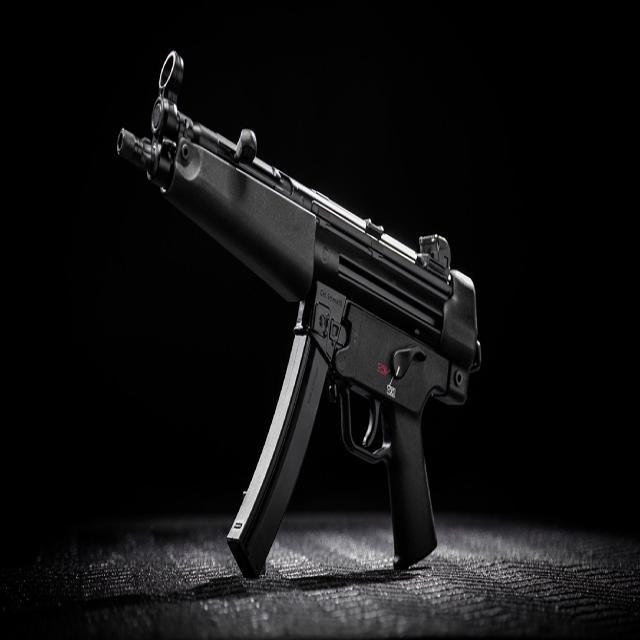SMG: (114, 52, 483, 580)
